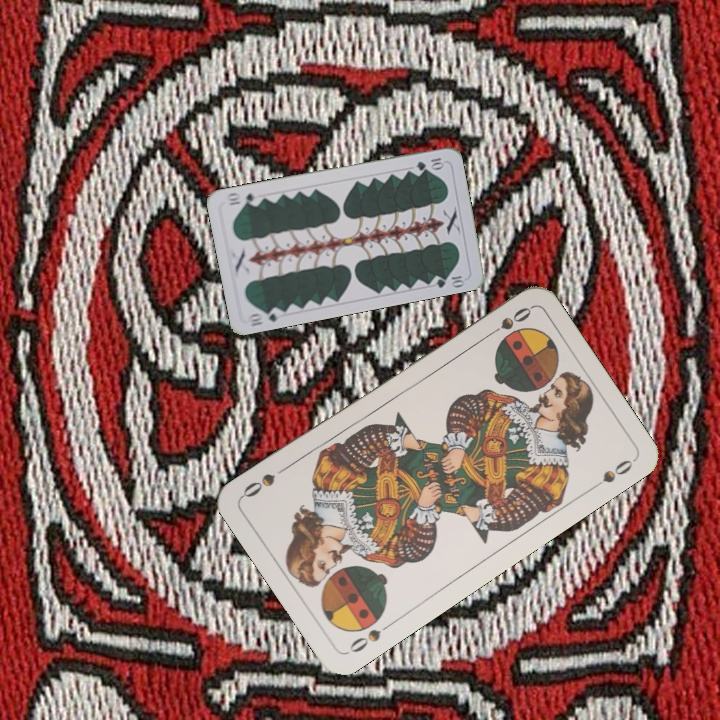G10: (243, 304, 285, 329), (412, 154, 447, 173)
SO: (481, 302, 534, 341), (343, 618, 396, 657)
